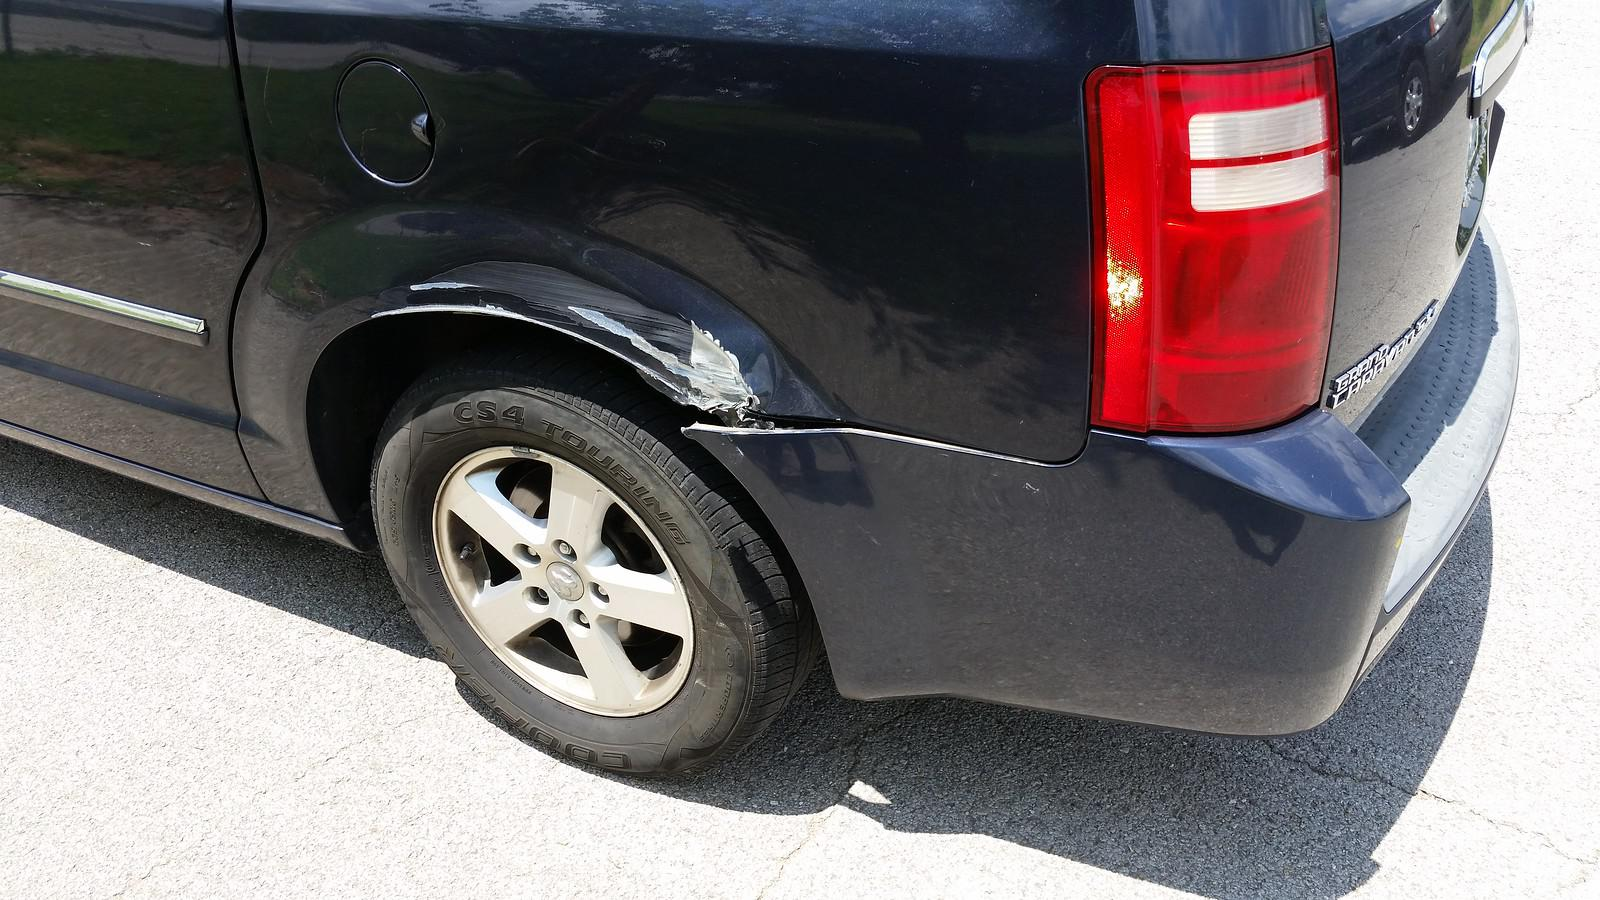quaterpanel-dent: (276, 0, 987, 467)
